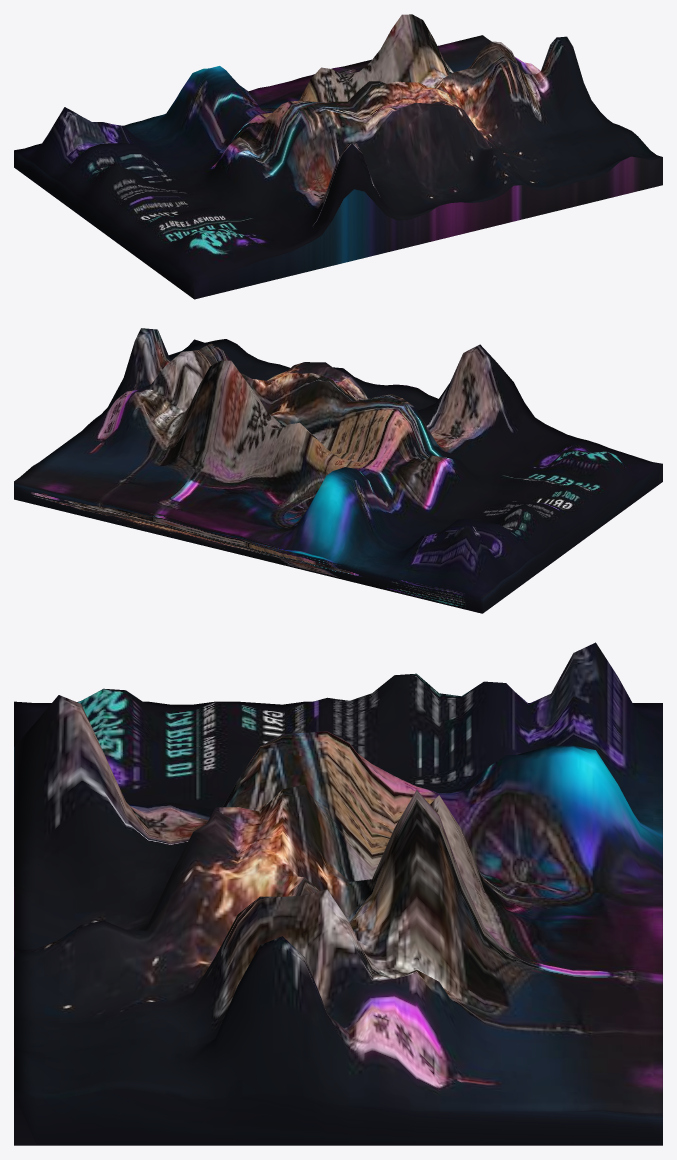
File: CAREER_01_Tool_05_Grill.glb
3 views of the same model, one above another, from view 1: azimuth 30°, elevation 25°; view 2: azimuth 150°, elevation 25°; view 3: azimuth 270°, elevation 25° (orthographic). The views are drawn at different scales.
Visible parts, largest first — view 1: CAREER_01_Tool_05_Grill; view 2: CAREER_01_Tool_05_Grill; view 3: CAREER_01_Tool_05_Grill.
Boxes of the visible parts, x1,y1,x2,y2 form: CAREER_01_Tool_05_Grill: (14,14,662,299); CAREER_01_Tool_05_Grill: (14,328,662,613); CAREER_01_Tool_05_Grill: (14,642,662,1145).
Size of the model in its own units: 2 by 0.51 by 1.33.
Materials: 1 (1 with a texture image).
